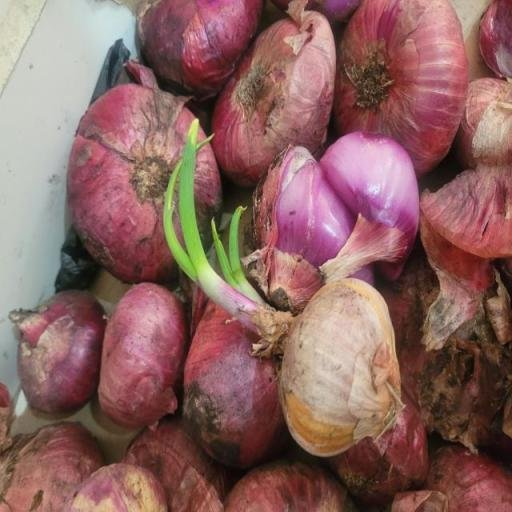damaged: (258, 134, 426, 302)
healthy: (342, 1, 466, 172), (94, 284, 186, 427)
